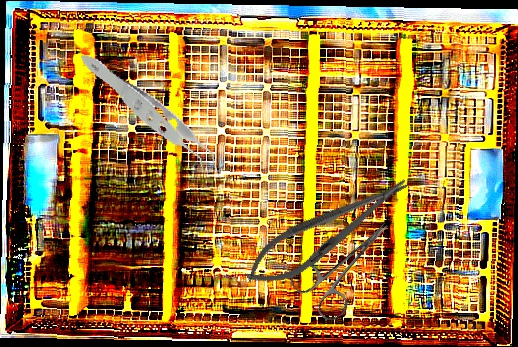Iris Scissors: (285, 202, 411, 327)
Needle Holder: (236, 163, 419, 300)
Tissue Forceps: (79, 25, 224, 212)
